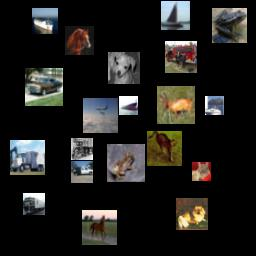airplane: (83, 98, 118, 133)
automobile: (25, 68, 63, 106)
cat: (147, 131, 182, 166), (192, 162, 211, 181)
deer: (157, 86, 195, 124)
dog: (108, 52, 140, 84), (176, 198, 208, 230)
frog: (107, 144, 145, 182), (212, 8, 247, 43)
ship: (161, 1, 190, 30), (32, 8, 58, 34), (205, 96, 224, 115), (119, 96, 138, 115)
truck: (10, 140, 45, 175), (165, 41, 197, 73), (23, 193, 45, 215), (71, 161, 93, 183), (71, 138, 93, 160)
